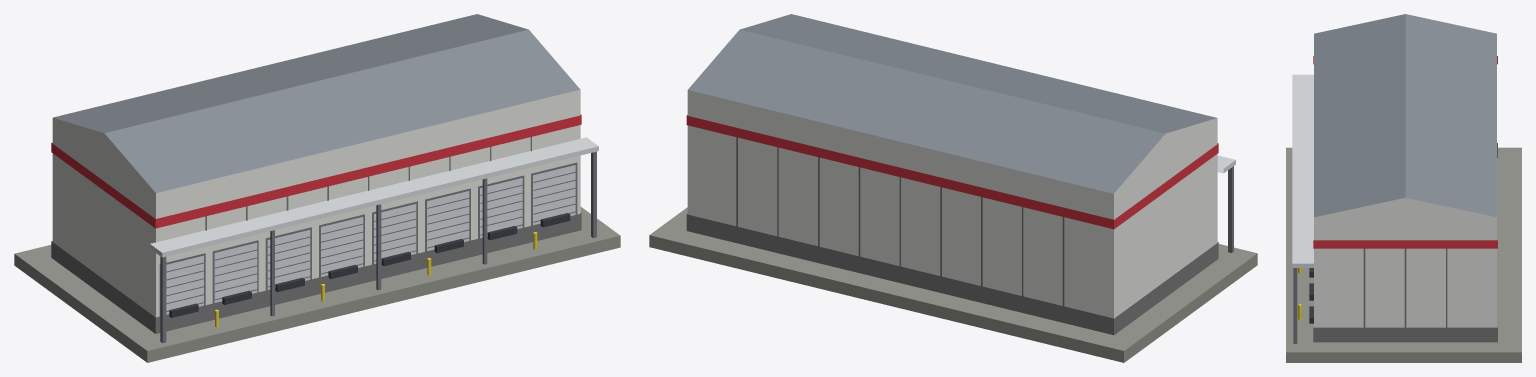
File: mashup-warehouse-top-prebuilt_close.fbx
3 renders of one model, left to right at view 1: azimuth 30°, elevation 25°; view 2: azimuth 150°, elevation 25°; view 3: azimuth 270°, elevation 25°, orthographic. The views are drawn at different scales.
Visible parts, largest first — view 1: a1029/0/mashup-warehouse-top-prebuilt_close; view 2: a1029/0/mashup-warehouse-top-prebuilt_close; view 3: a1029/0/mashup-warehouse-top-prebuilt_close.
Part boxes in pixels (left/top/right/bottom): a1029/0/mashup-warehouse-top-prebuilt_close: left=14, top=14, right=620, bottom=362; a1029/0/mashup-warehouse-top-prebuilt_close: left=649, top=14, right=1257, bottom=362; a1029/0/mashup-warehouse-top-prebuilt_close: left=1286, top=14, right=1521, bottom=362.
Bounding box in the file's own units: 31.2 × 11 × 15.2.
